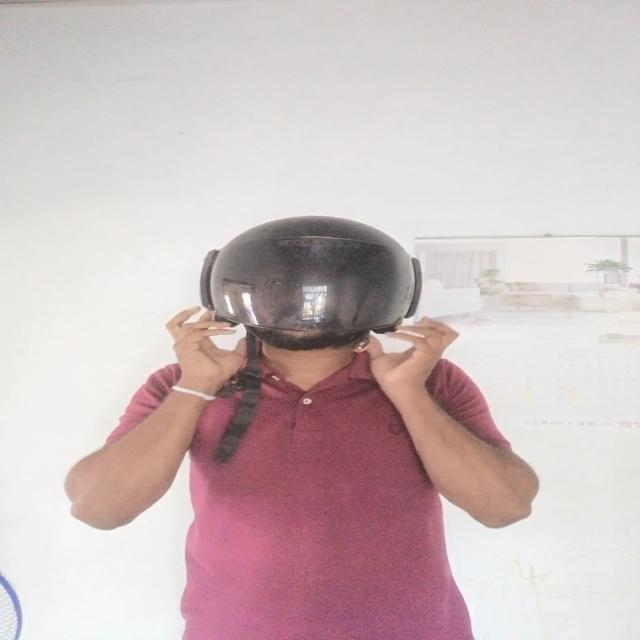Helmet_Wearer: (163, 206, 455, 402)
